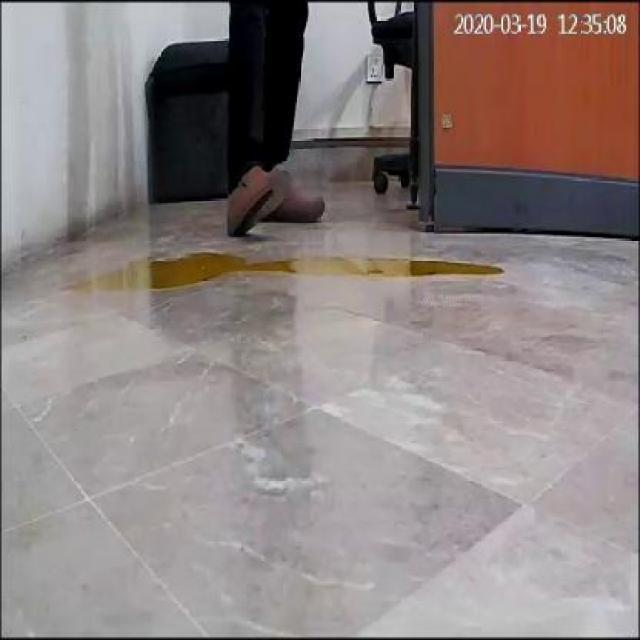spill: (79, 250, 506, 296)
